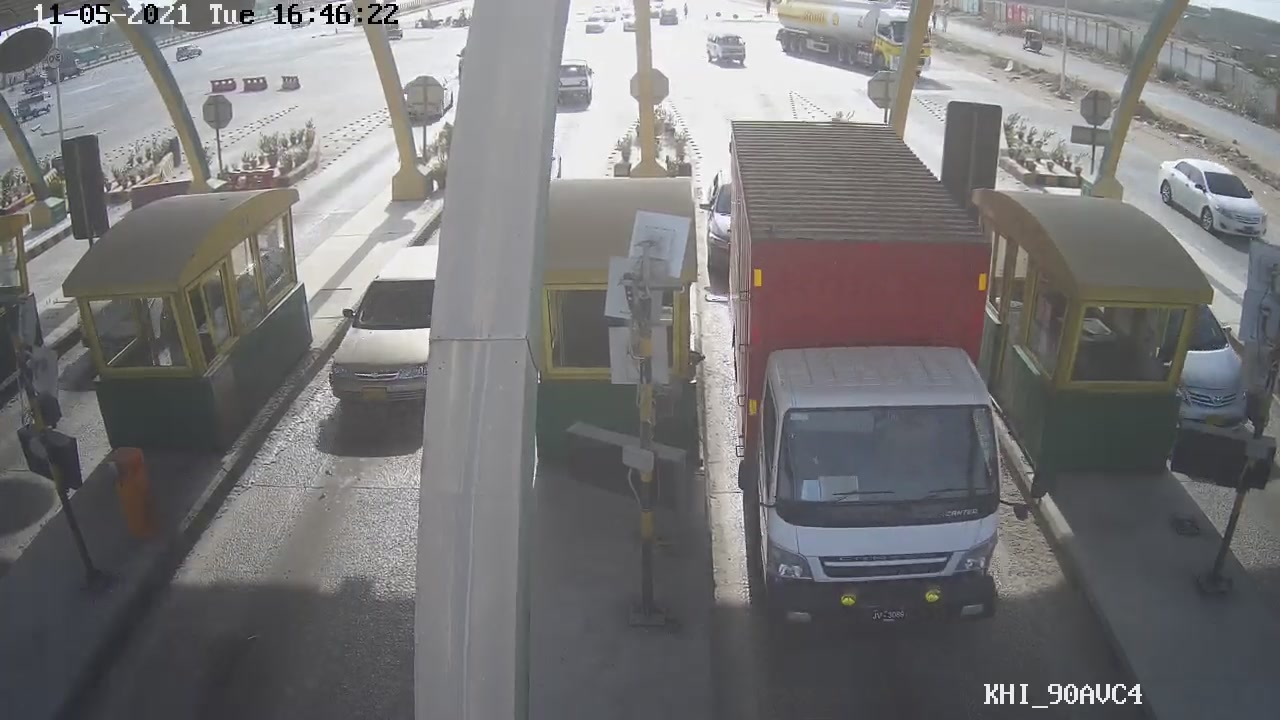F5: (711, 112, 1031, 635)
